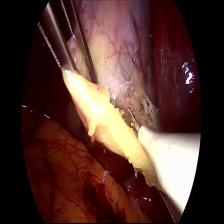Grasper: (36, 2, 100, 90)
Hook: (126, 104, 197, 216)
